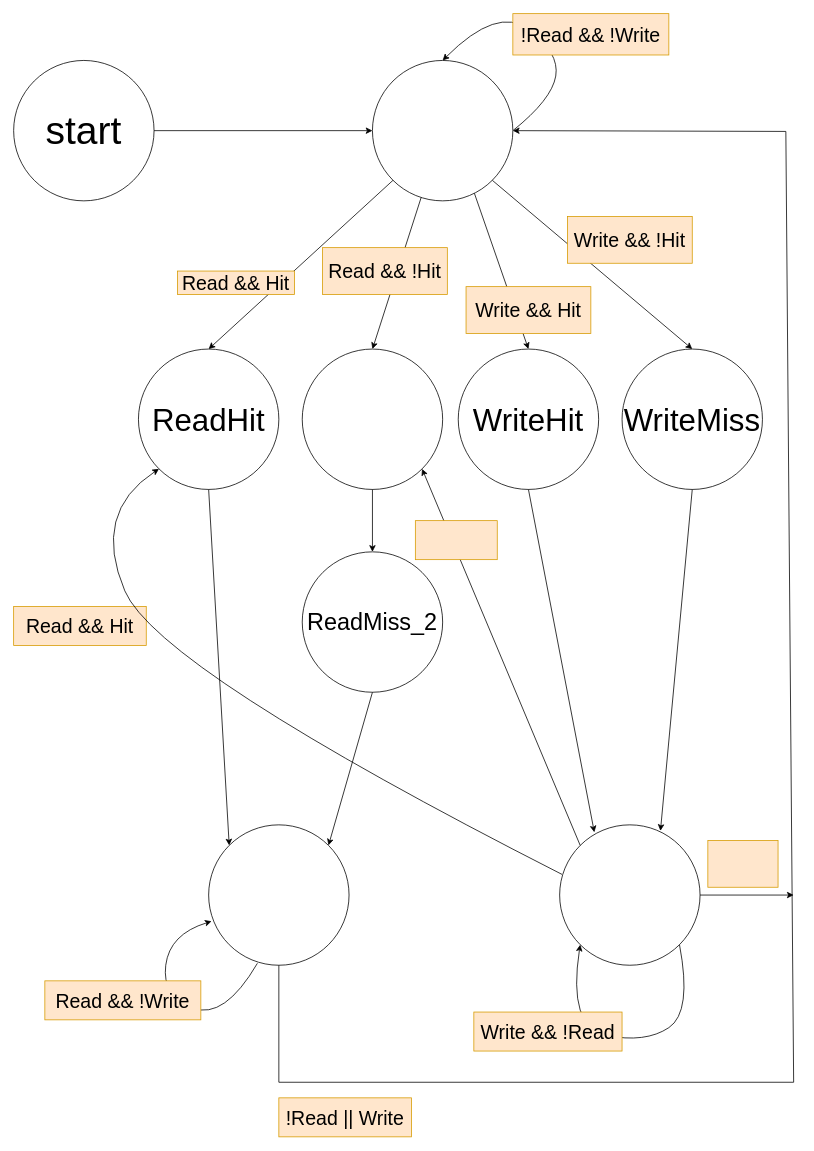
Image size: 814x1151. Some labels were removed from this diagram. Here are the shapes that lost their labels. From the top down, the centre of each, then its label:
At point (442, 130): "WaitforSignal".
At point (372, 418): "ReadMiss_1".
At point (456, 540): "Read && Miss".
At point (742, 863): "!Write || !Read".
At point (278, 894): "ReadReturn".
At point (629, 894): "WriteReturn".
